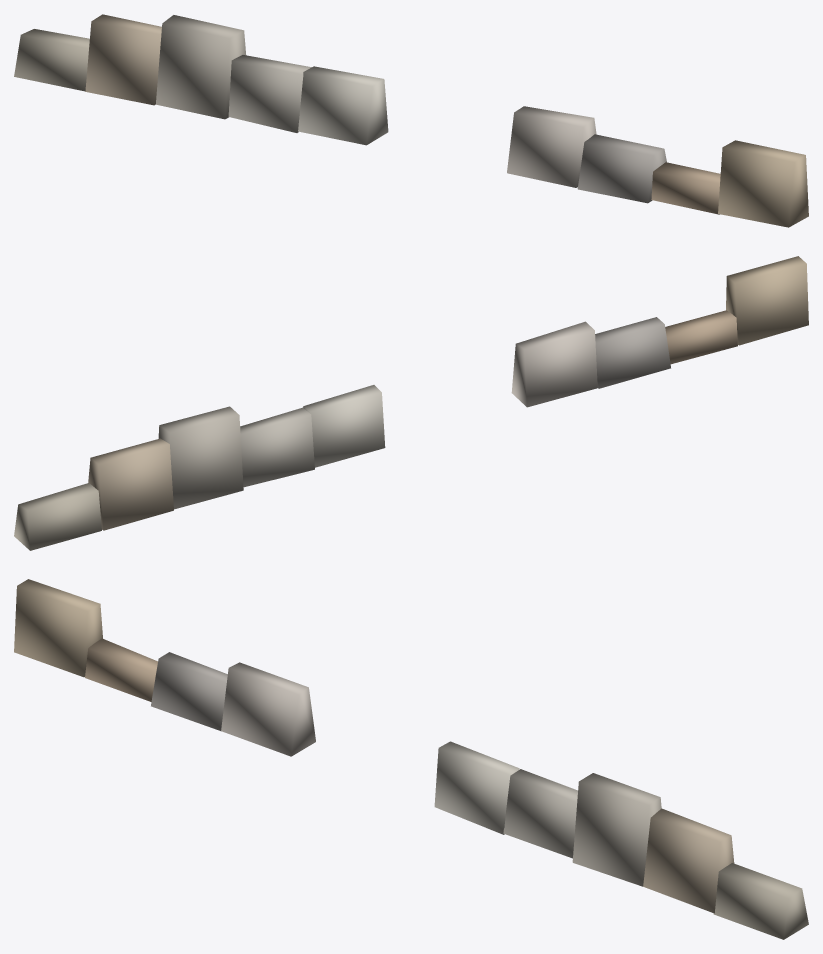
File: farm_0_2_far.glb
3 renders of one model, top to bottom at view 1: azimuth 90°, elevation 25°; view 2: azimuth 150°, elevation 25°; view 3: azimuth 270°, elevation 25°, orthographic. The views are drawn at different scales.
Visible parts, largest first — view 1: geometry_0; view 2: geometry_0; view 3: geometry_0.
Part boxes in pixels (x1,y1,x2,y2): geometry_0: (14, 14, 808, 227); geometry_0: (14, 256, 808, 550); geometry_0: (14, 579, 808, 939).
Size of the model in its own units: 9.65 by 2.53 by 13.92.
